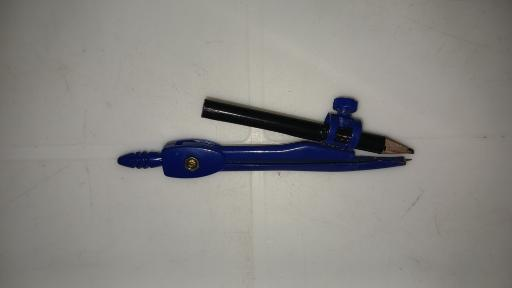Compass: (116, 95, 415, 180)
